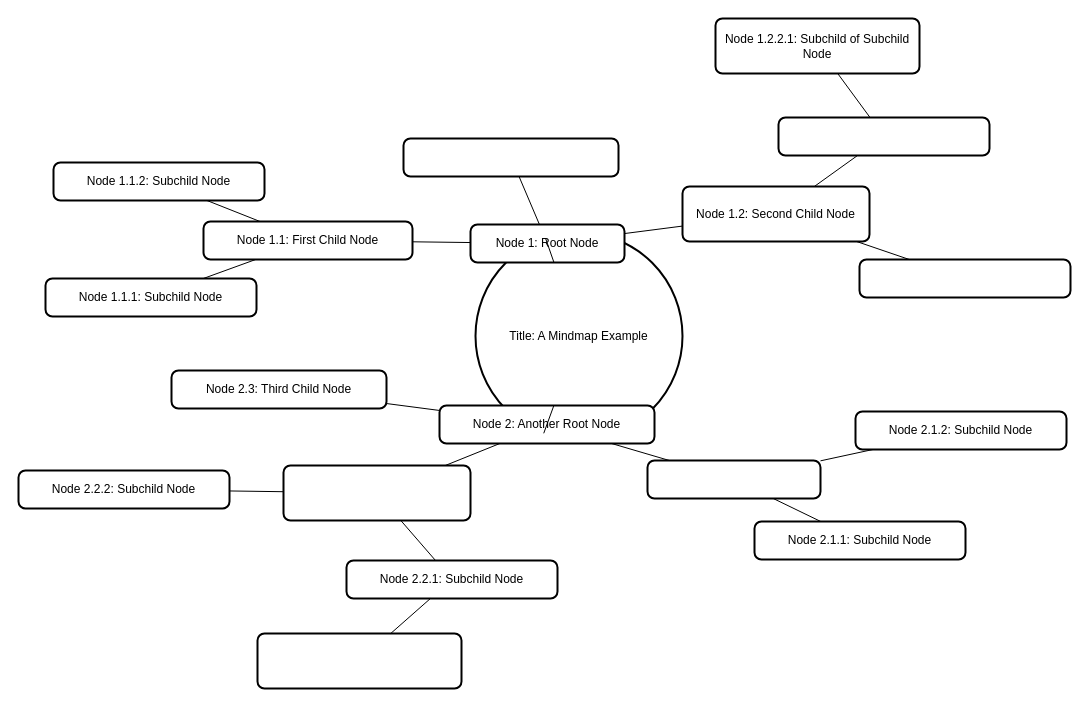
Some shapes in this 1088 by 706 pixel diagram are drawn without their labels. Each missing label, with the centre of its shape:
"Node 1.2.1: Subchild Node" goes at point 964,278.
"Node 1.2.2: Subchild Node" goes at point 883,136.
"Node 1.3: Third Child Node" goes at point 510,157.
"Node 2.1: Child Node" goes at point 733,479.
"Node 2.2.1.1: Subchild of Subchild Node" goes at point 359,660.
"Node 2.2: Second Child Node" goes at point 376,492.
